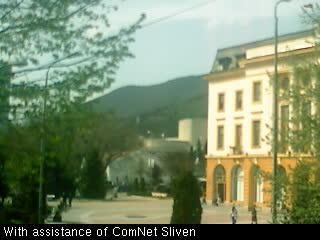person: (230, 203, 238, 223), (250, 208, 257, 224), (201, 192, 208, 206), (217, 193, 223, 206), (113, 187, 119, 199), (211, 197, 217, 206)
